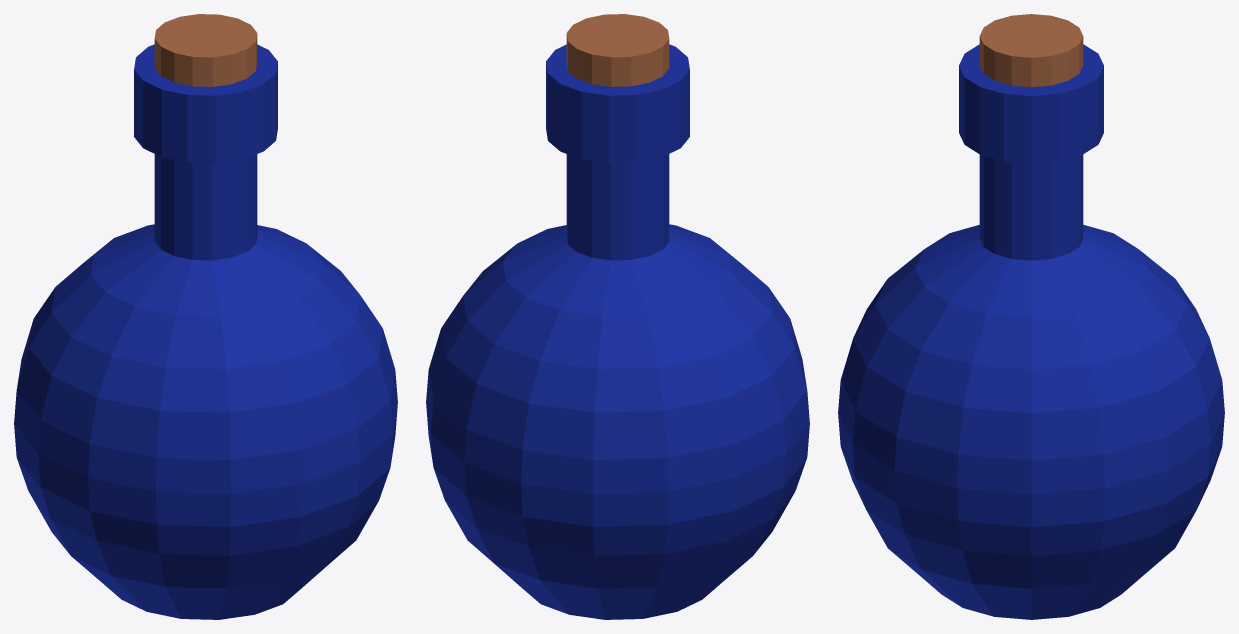
File: flask_1.glb
The picture shows the model from 3 angles, left to right: view 1: azimuth 30°, elevation 25°; view 2: azimuth 150°, elevation 25°; view 3: azimuth 270°, elevation 25°; orthographic projection.
Parts seen in each view (by area): view 1: flask_1; view 2: flask_1; view 3: flask_1.
Boxes of the visible parts, bbox=[...] form: flask_1: bbox=[14, 14, 397, 619]; flask_1: bbox=[426, 14, 809, 619]; flask_1: bbox=[838, 14, 1224, 619].
Size of the model in its own units: 0.0994 by 0.1542 by 0.0994.
Materials: 1 (1 with a texture image).
